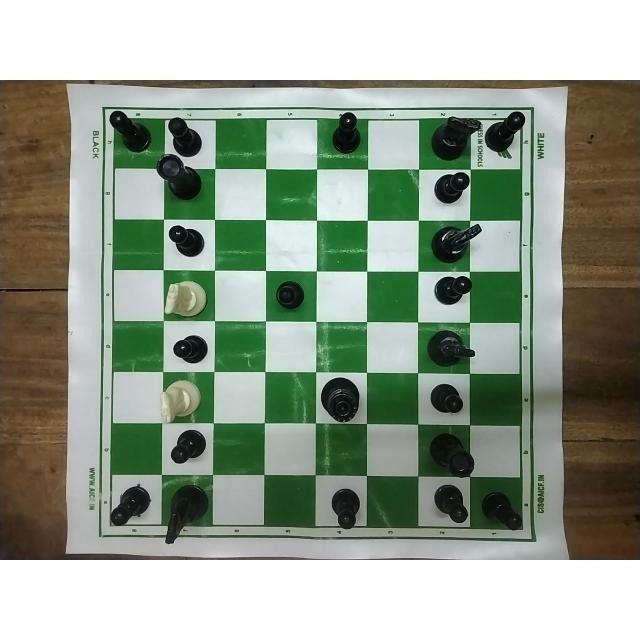black-knight: (158, 481, 217, 547), (426, 113, 481, 161), (431, 220, 482, 267), (426, 325, 482, 367)
black-pawn: (484, 110, 532, 154), (477, 489, 525, 533), (110, 481, 154, 527), (108, 107, 152, 151), (165, 109, 206, 156), (431, 483, 471, 527), (166, 222, 209, 262), (328, 484, 362, 532), (169, 428, 209, 468), (423, 376, 464, 415), (335, 112, 365, 164), (432, 271, 473, 305), (433, 170, 471, 204), (171, 334, 210, 366), (276, 276, 308, 311)
black-queen: (317, 371, 361, 421)
black-rook: (153, 153, 204, 205), (425, 433, 483, 477)
white-knight: (158, 380, 204, 424), (164, 274, 210, 318)
